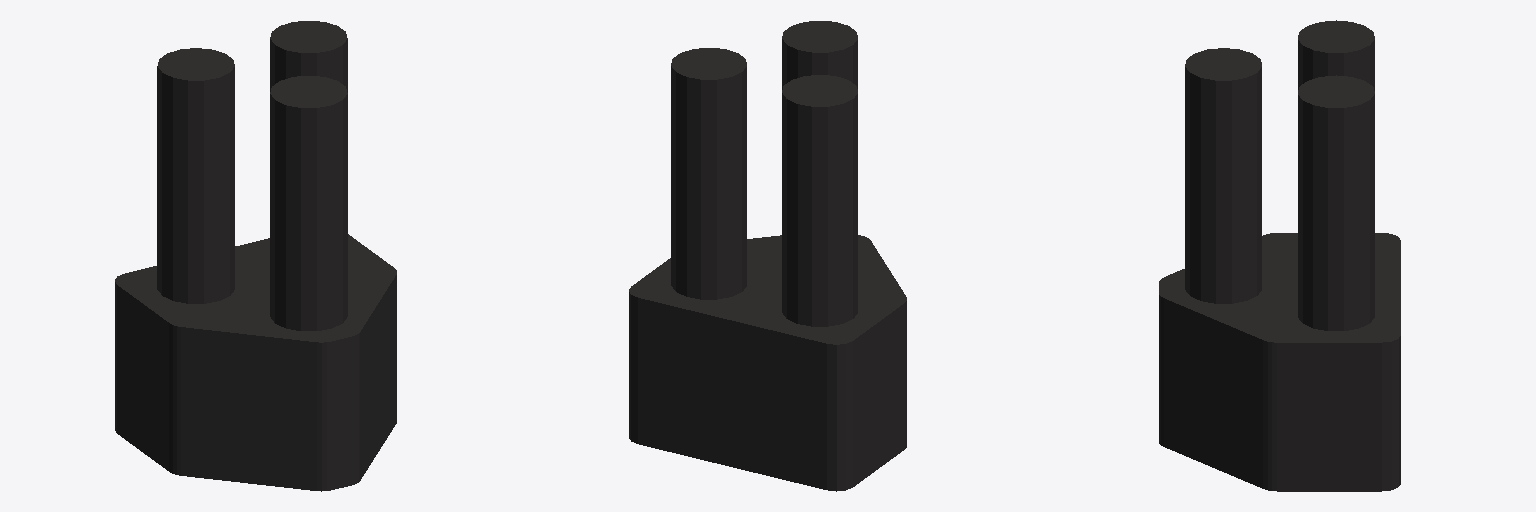
robot.urdf — Large_Short_3Prong_Yellow:
<?xml version="1.0"?>
<robot name="Large_Short_3Prong_Yellow">
    <link name="Large_Short_3Prong_Yellow">
        <visual>
            <geometry>
                <mesh filename="../mesh/factory_insertion/Large_Short_3Prong_Yellow.obj" scale="0.001 0.001 0.001"/>
            </geometry>
            <material name="Yellow">
              <color rgba="0.22 0.21 0.21 0.0"/>
            </material>
        </visual>
        <collision>
            <geometry>
                <mesh filename="../mesh/factory_insertion/Large_Short_3Prong_Yellow.obj" scale="0.001 0.001 0.001"/>
            </geometry>
            <sdf resolution="512"/>
        </collision>
    </link>
</robot>

--- Render facts (derived) ---
The picture shows the robot from 3 angles, left to right: view 1: azimuth 30°, elevation 25°; view 2: azimuth 150°, elevation 25°; view 3: azimuth 270°, elevation 25°; orthographic projection.
Robot: Large_Short_3Prong_Yellow — 1 links, 0 joints (none); root link Large_Short_3Prong_Yellow; default pose: every joint at zero.
Visible links, largest first — view 1: Large_Short_3Prong_Yellow; view 2: Large_Short_3Prong_Yellow; view 3: Large_Short_3Prong_Yellow.
Boxes of the visible links, x1,y1,x2,y2 form: Large_Short_3Prong_Yellow: (115,21,396,491); Large_Short_3Prong_Yellow: (629,21,906,491); Large_Short_3Prong_Yellow: (1159,20,1400,491).
Size in the robot's own frame: 0.0634 by 0.0591 by 0.1 metres.
Meshes: 1 distinct files referenced, 1 mesh visuals loaded (1 OBJ).
